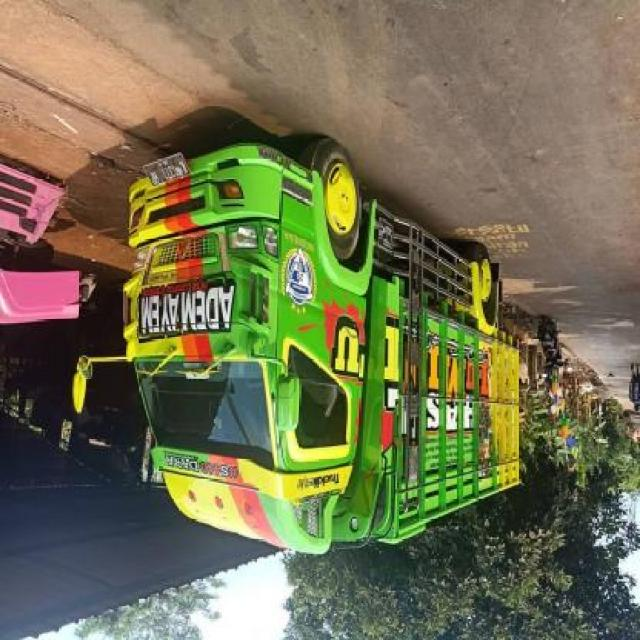truck: (73, 143, 521, 557)
